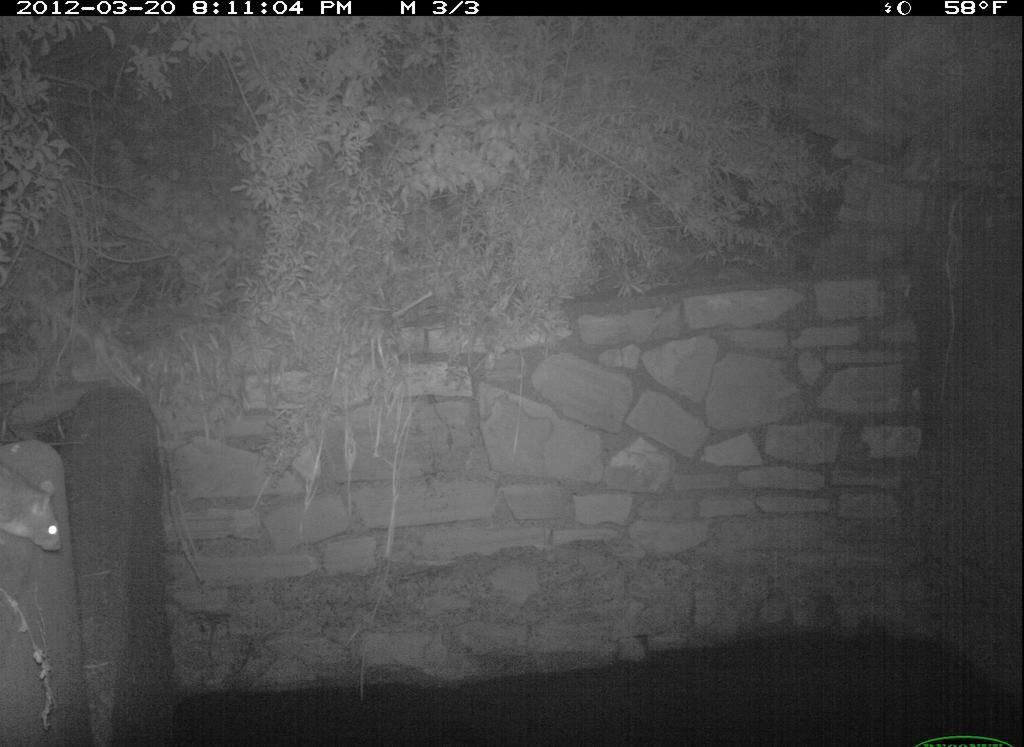rodent: (3, 456, 71, 561)
